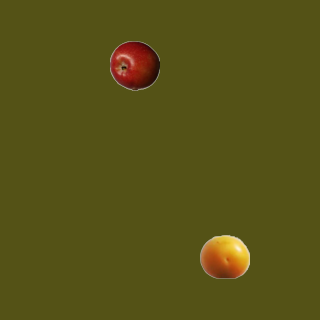Apple Braeburn: (109, 40, 159, 90)
Cherry Wax Yellow: (199, 231, 249, 281)
